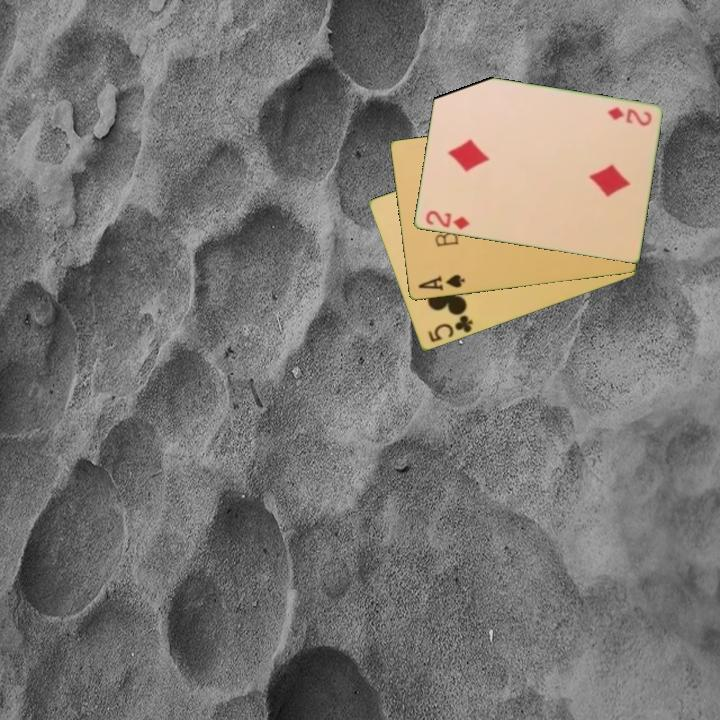2d: (422, 207, 472, 233), (604, 104, 654, 129)
5c: (424, 312, 476, 345)
As: (415, 271, 467, 294)
